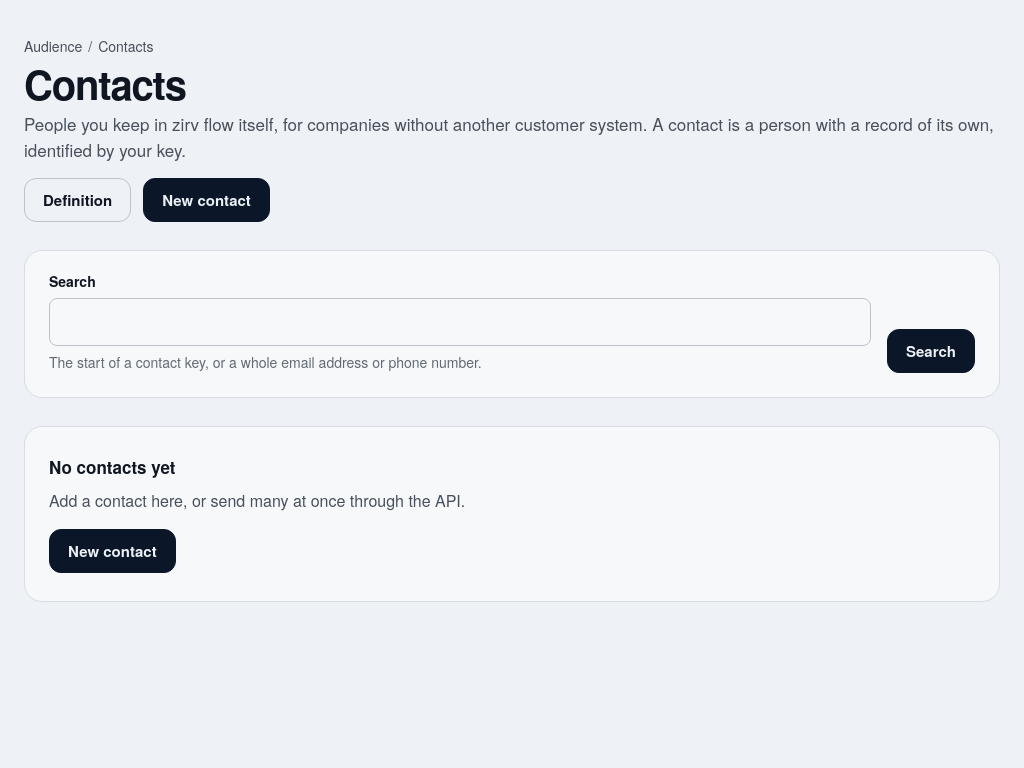
Test: new contact form › explains that a workspace without a definition has key-only contacts
Click the button "New contact" next to "Definition" at point(207, 200), box [143,178,270,222]
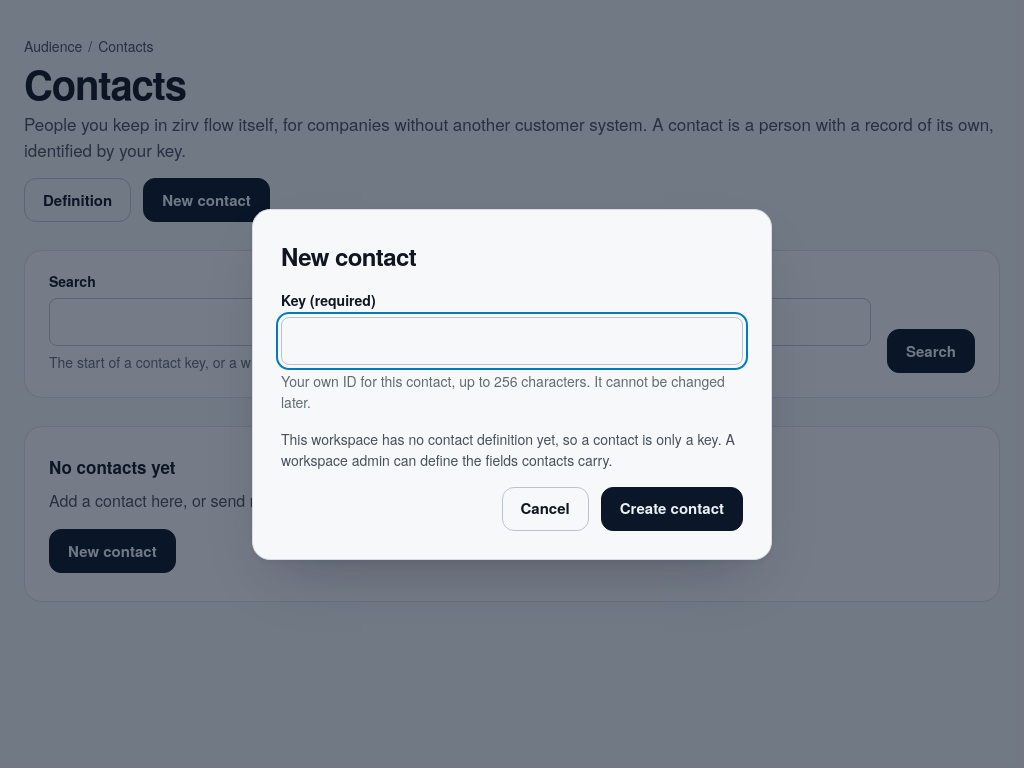
expect the text "no contact definition yet" is shown: met, box [281,428,735,470]
